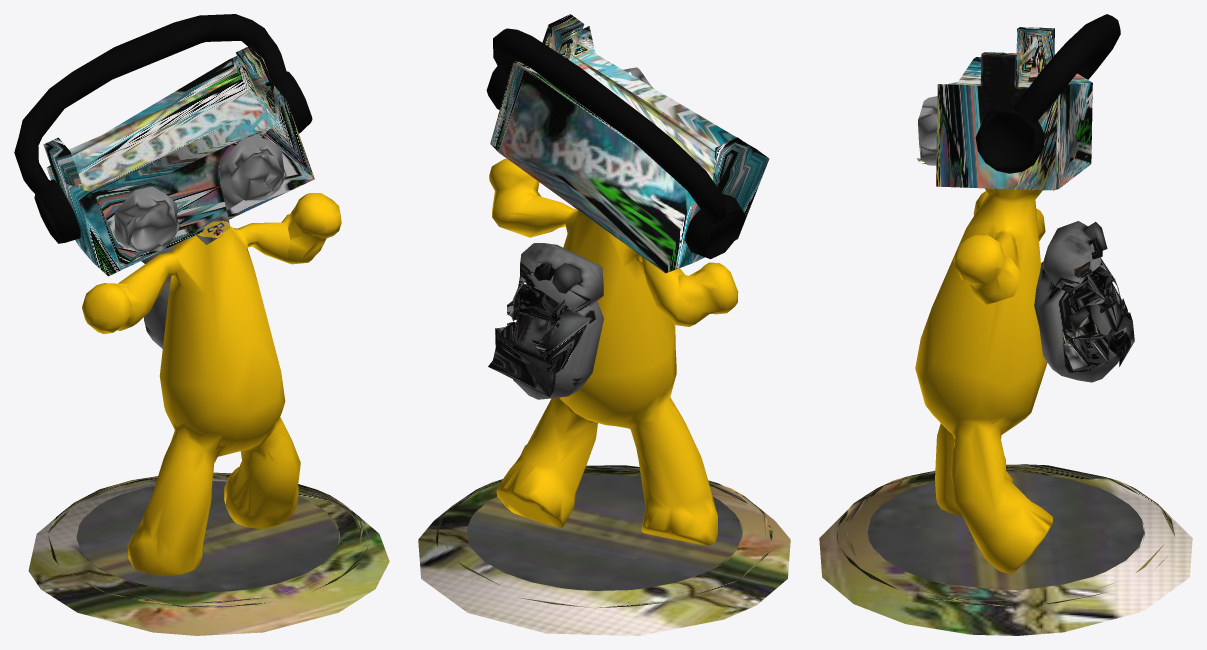
The picture shows the model from 3 angles, left to right: view 1: azimuth 30°, elevation 25°; view 2: azimuth 150°, elevation 25°; view 3: azimuth 270°, elevation 25°; orthographic projection. The views are drawn at different scales.
Bounding box in the file's own units: 1.44 × 2.24 × 1.41.
10 materials, 5 textured.
